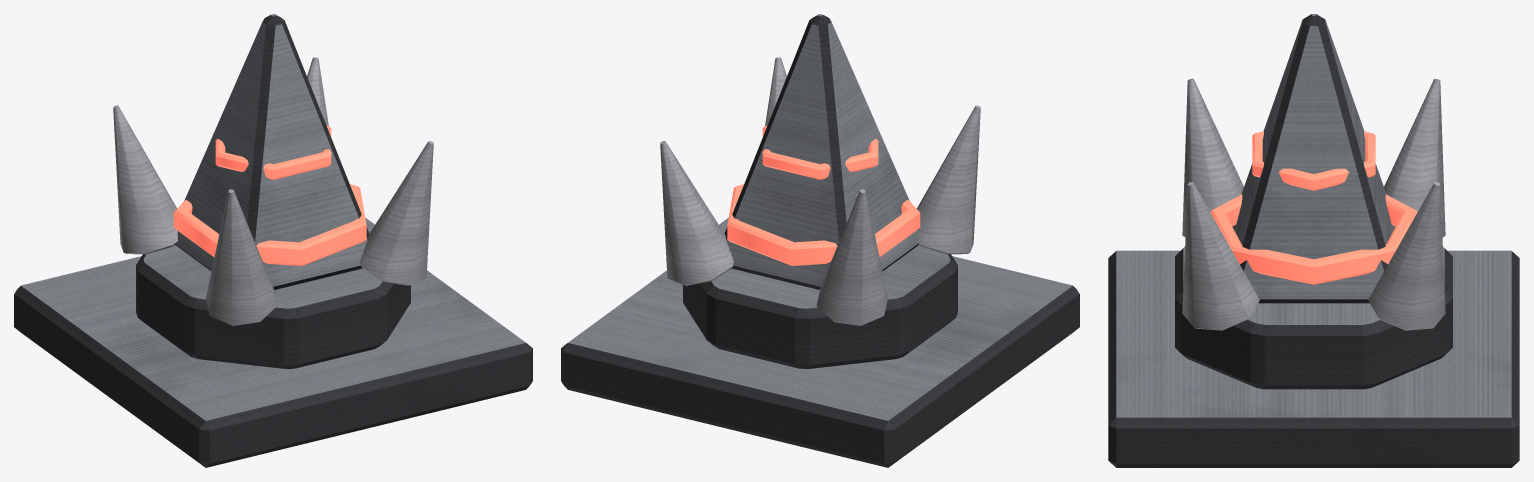
Rendered from R4X_DamageBooster_LOD1.glb.
3 views of the same model, side by side, from view 1: azimuth 30°, elevation 25°; view 2: azimuth 150°, elevation 25°; view 3: azimuth 270°, elevation 25° (orthographic). The views are drawn at different scales.
Visible parts, largest first — view 1: R4X_DamageBooster_LOD1; view 2: R4X_DamageBooster_LOD1; view 3: R4X_DamageBooster_LOD1.
Boxes of the visible parts, x1,y1,x2,y2 form: R4X_DamageBooster_LOD1: [14, 14, 532, 467]; R4X_DamageBooster_LOD1: [561, 14, 1079, 467]; R4X_DamageBooster_LOD1: [1108, 14, 1519, 467].
Size of the model in its own units: 0.52 by 0.515 by 0.52.
Materials: 4 (3 with a texture image).
